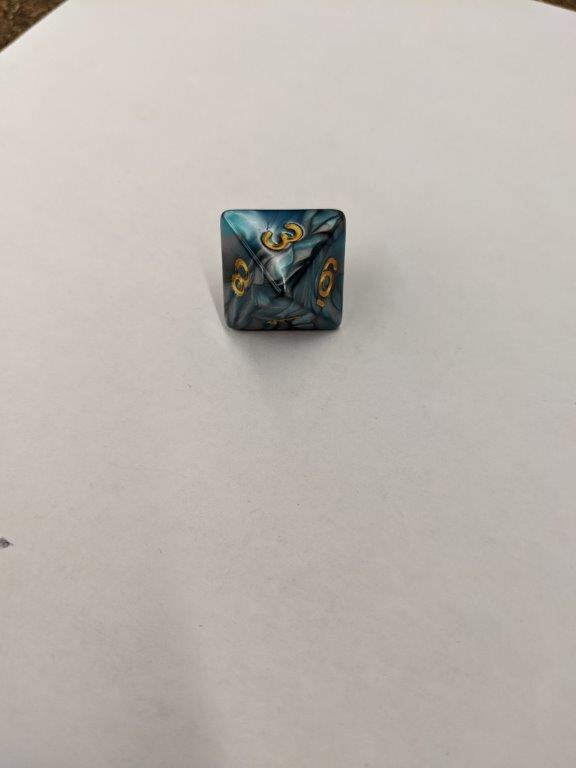d8-3: (218, 207, 346, 332)
